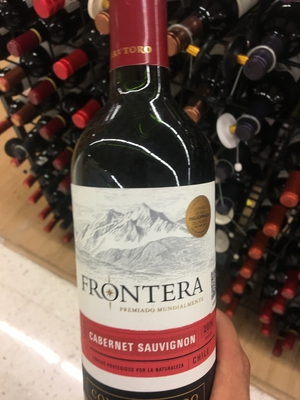frontera cabernet sauvignon: (64, 14, 237, 400)
